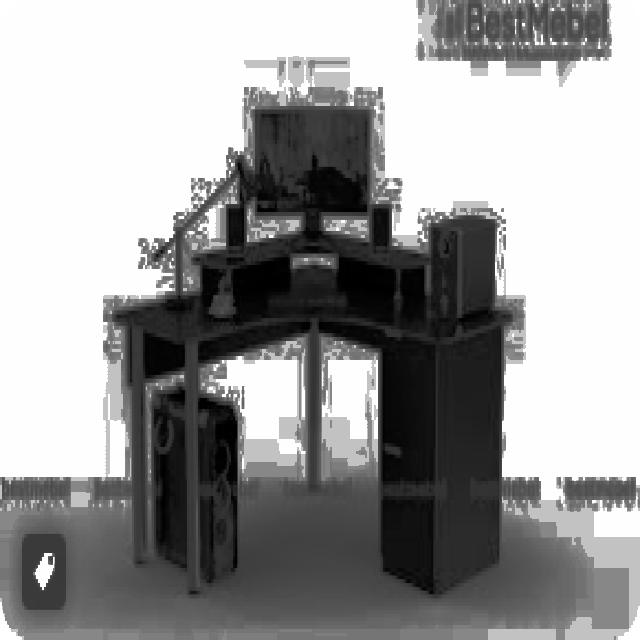table: (112, 261, 513, 595)
